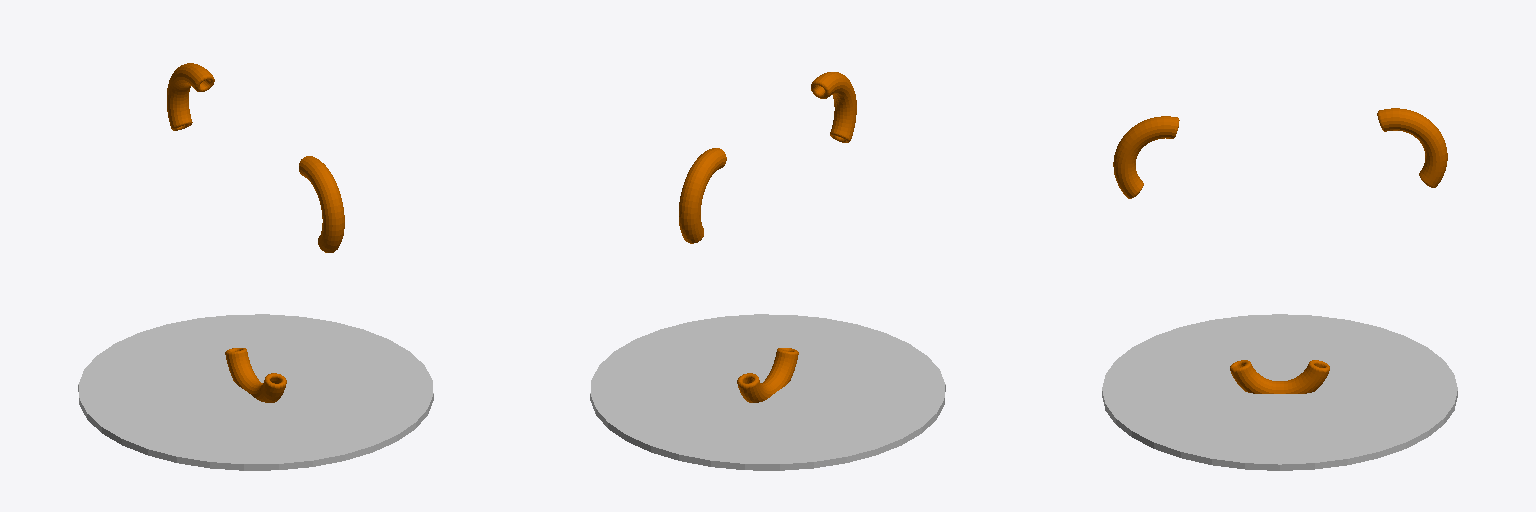
File: noodlesgroup2.obj
3 views of the same model, side by side, from view 1: azimuth 30°, elevation 25°; view 2: azimuth 150°, elevation 25°; view 3: azimuth 270°, elevation 25° (orthographic).
Visible parts, largest first — view 1: Cylinder, noodle1_pPipe1; view 2: Cylinder, noodle1_pPipe1; view 3: Cylinder, noodle1_pPipe1.
Part boxes in pixels (bbox=[...]): Cylinder: bbox=[78, 314, 433, 470]; noodle1_pPipe1: bbox=[167, 63, 344, 402]; Cylinder: bbox=[590, 314, 945, 470]; noodle1_pPipe1: bbox=[679, 72, 856, 402]; Cylinder: bbox=[1102, 314, 1457, 470]; noodle1_pPipe1: bbox=[1113, 108, 1447, 393].
Size of the model in its own units: 15.87 by 14.44 by 15.87.